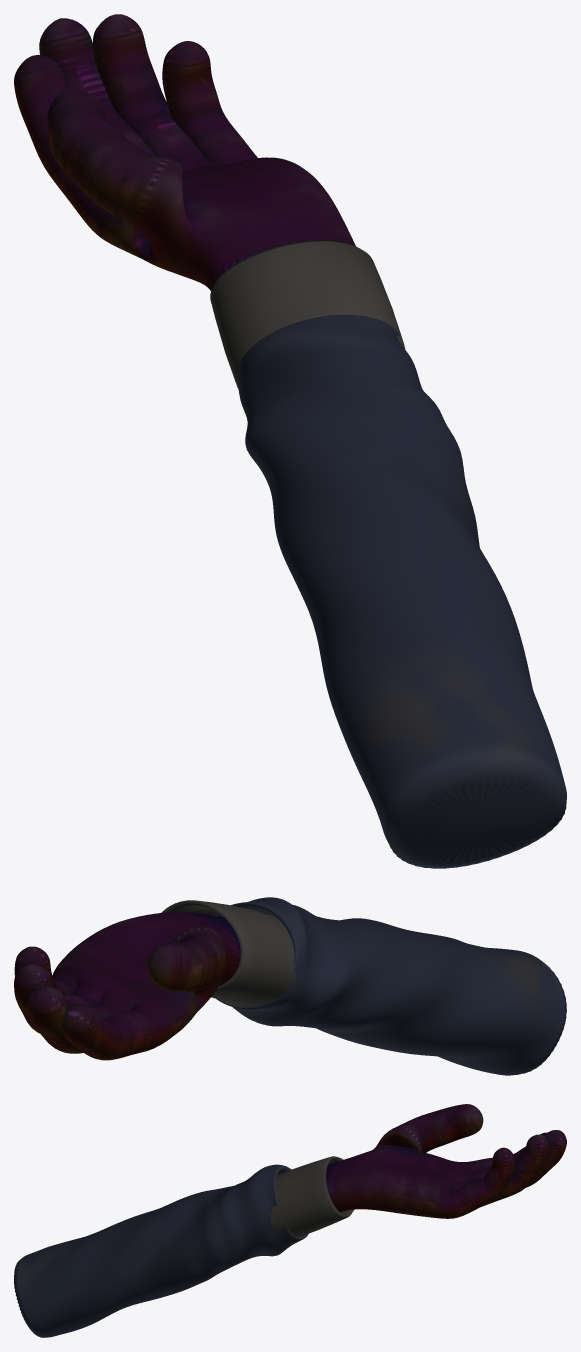
File: fp_hand_L_cradle.glb
3 views of the same model, one above another, from view 1: azimuth 30°, elevation 25°; view 2: azimuth 150°, elevation 25°; view 3: azimuth 270°, elevation 25° (orthographic). The views are drawn at different scales.
Parts seen in each view (by area): view 1: fp_hand_L_cradle; view 2: fp_hand_L_cradle; view 3: fp_hand_L_cradle.
Boxes of the visible parts, box(x1,y1,x2,y2) form: fp_hand_L_cradle: box(14, 14, 566, 868); fp_hand_L_cradle: box(14, 897, 566, 1075); fp_hand_L_cradle: box(14, 1104, 566, 1337).
Size of the model in its own units: 0.1423 by 0.2118 by 0.4539.
Materials: 3 (1 with a texture image).
